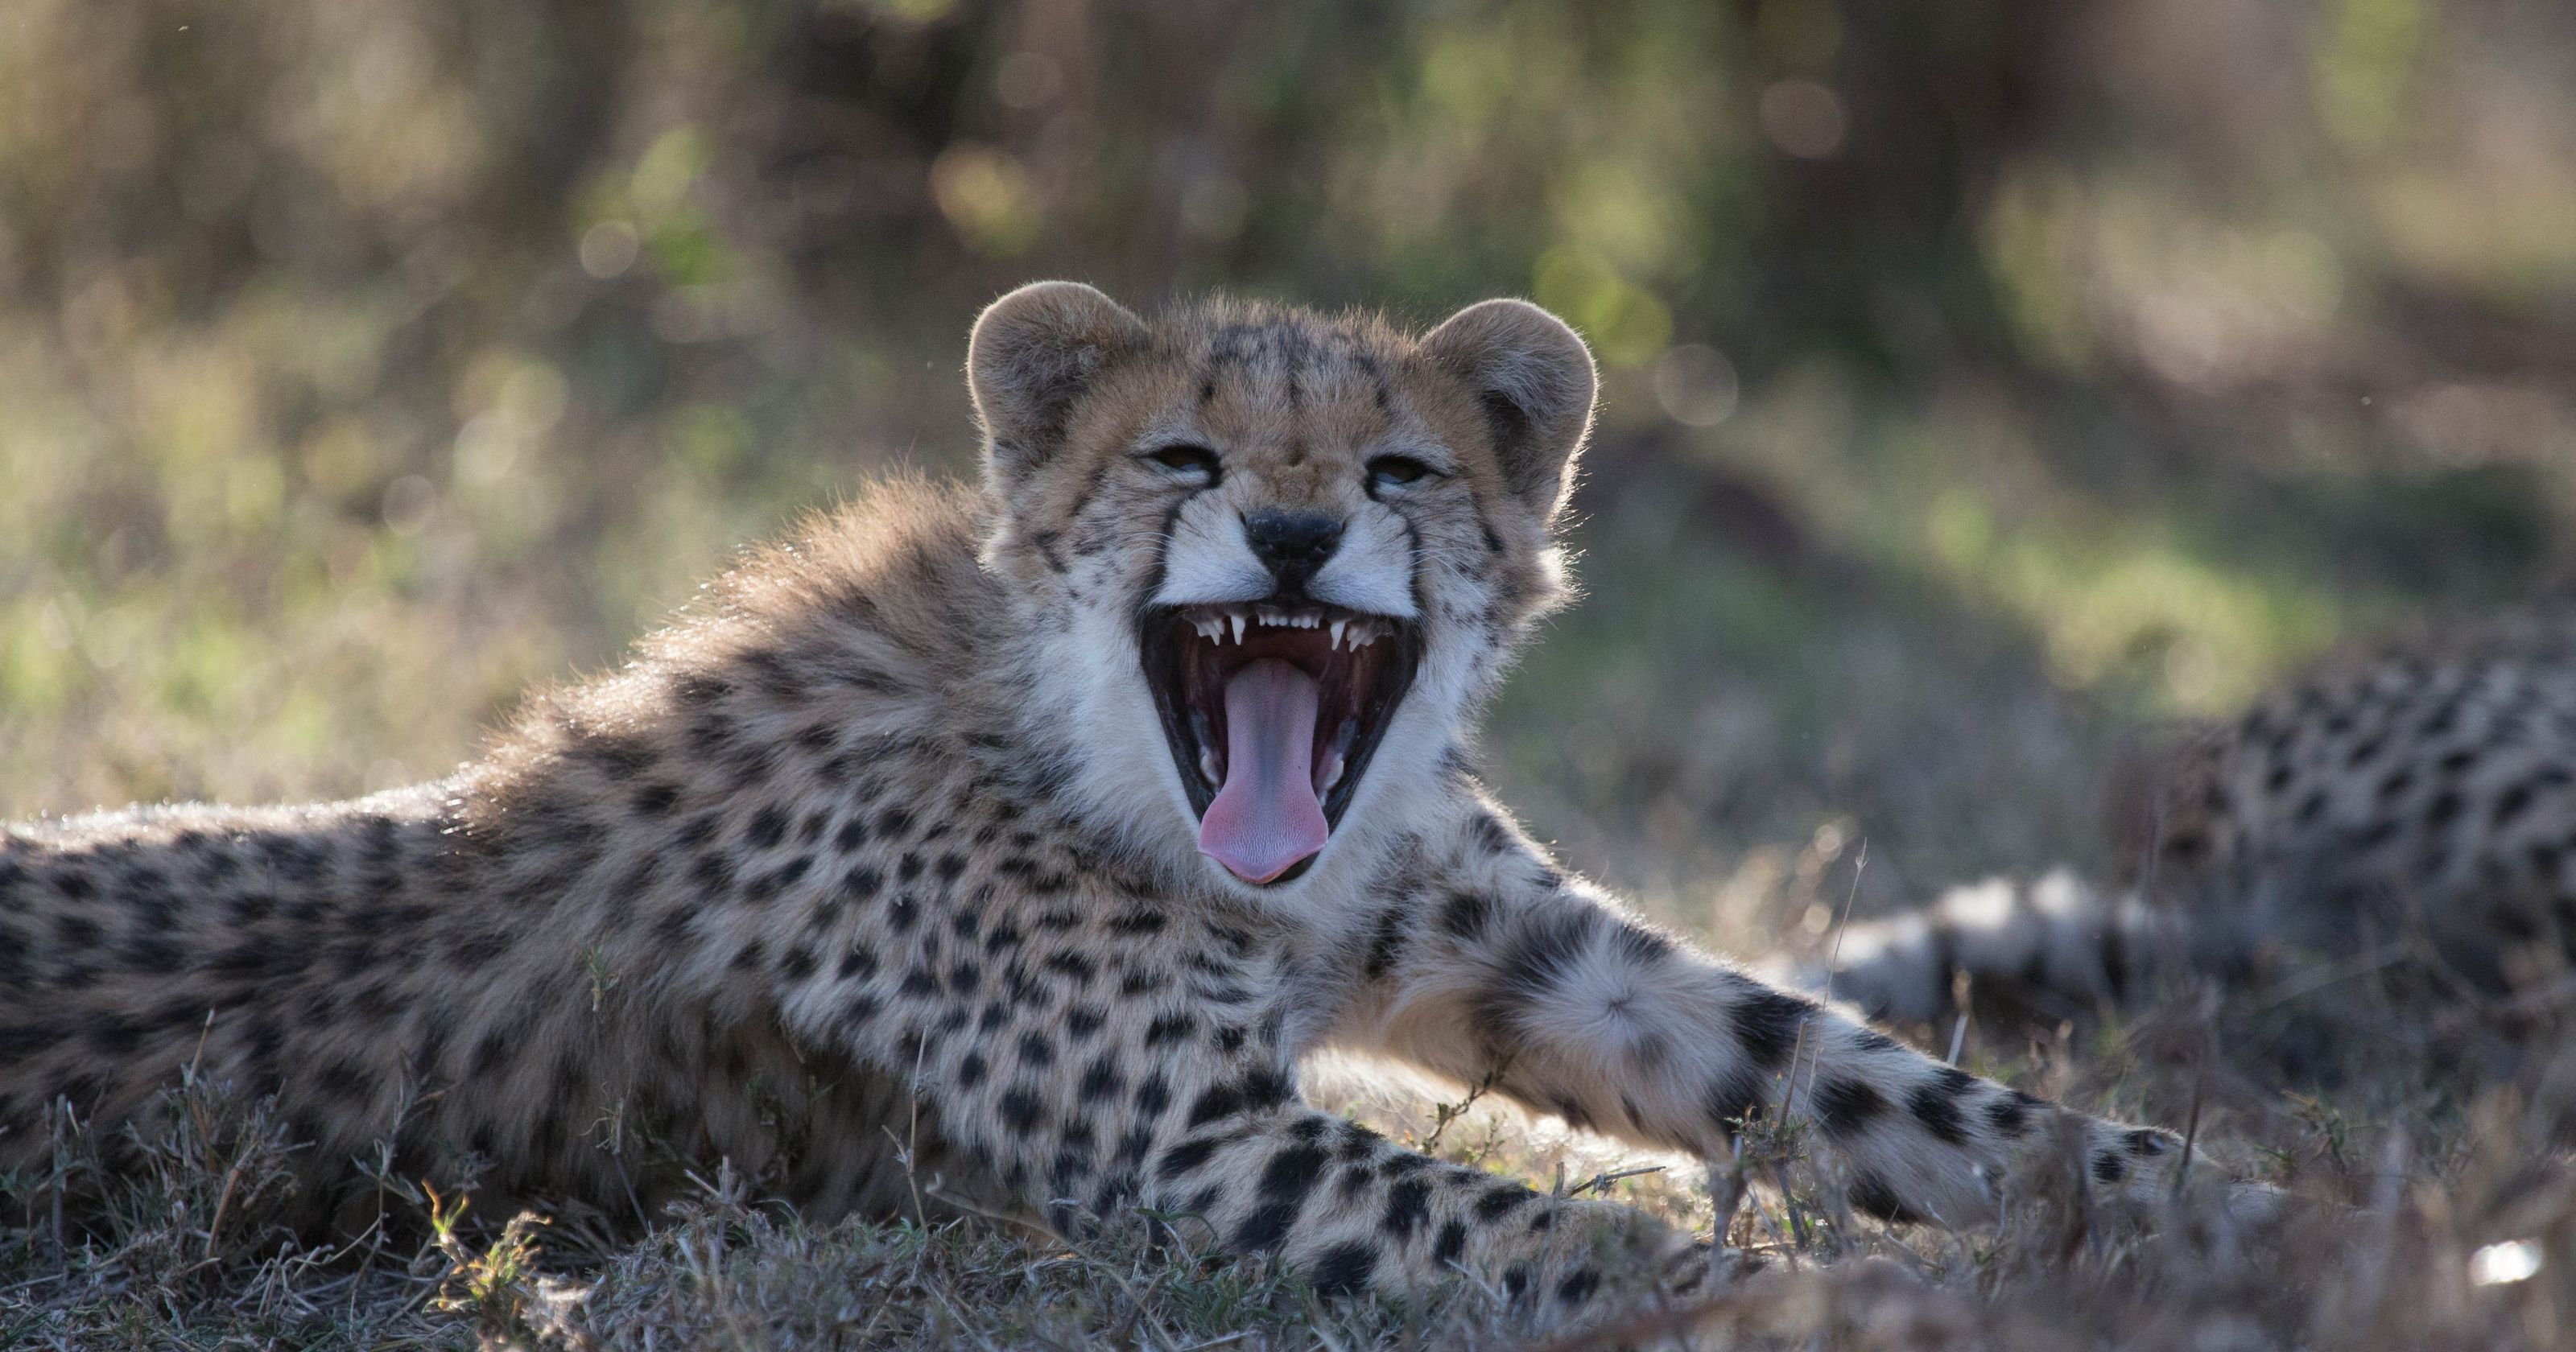Cheetah: (0, 291, 2263, 1274)
